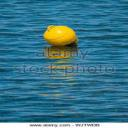yellow: (42, 26, 80, 46)
